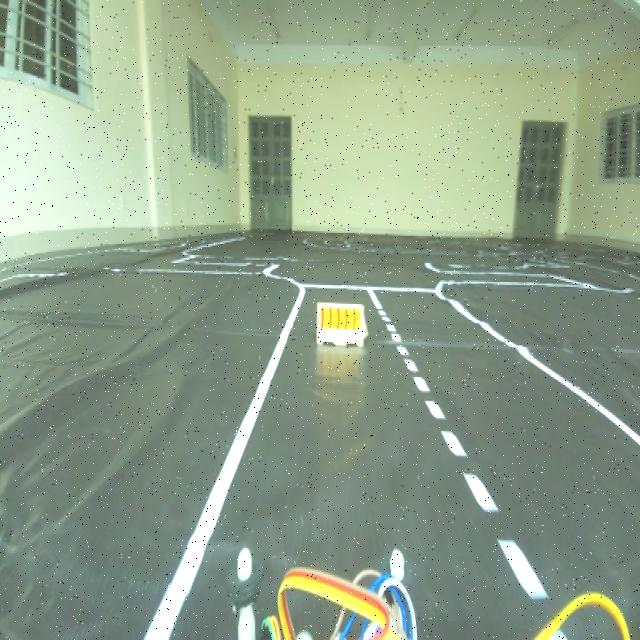roadblock: (311, 297, 373, 357)
